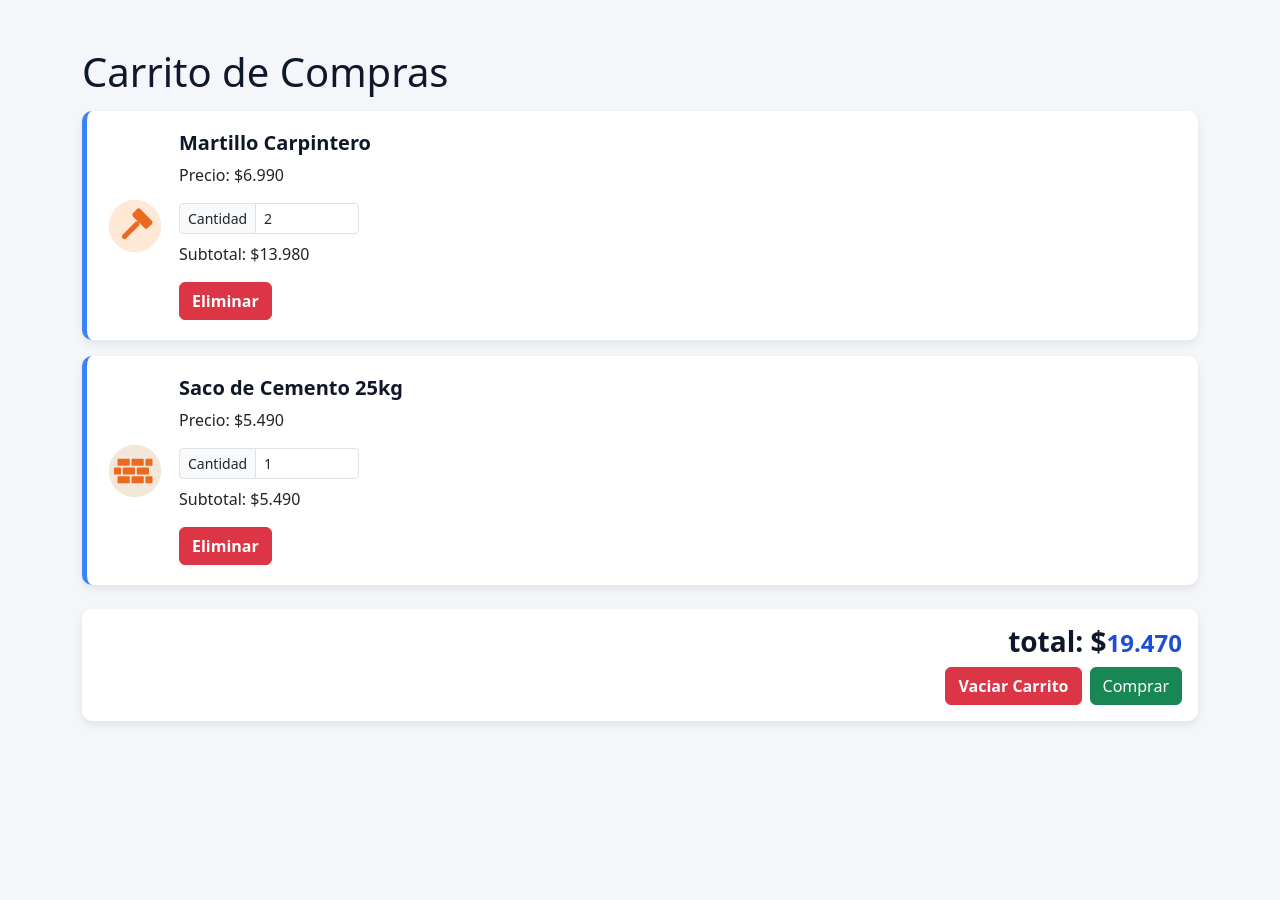
it: Carrito › al intentar comprar sin sesión iniciada muestra un aviso con acceso al login
Click the button "Comprar": point(1136, 686) top-left (1090, 667), bottom-right (1182, 705)
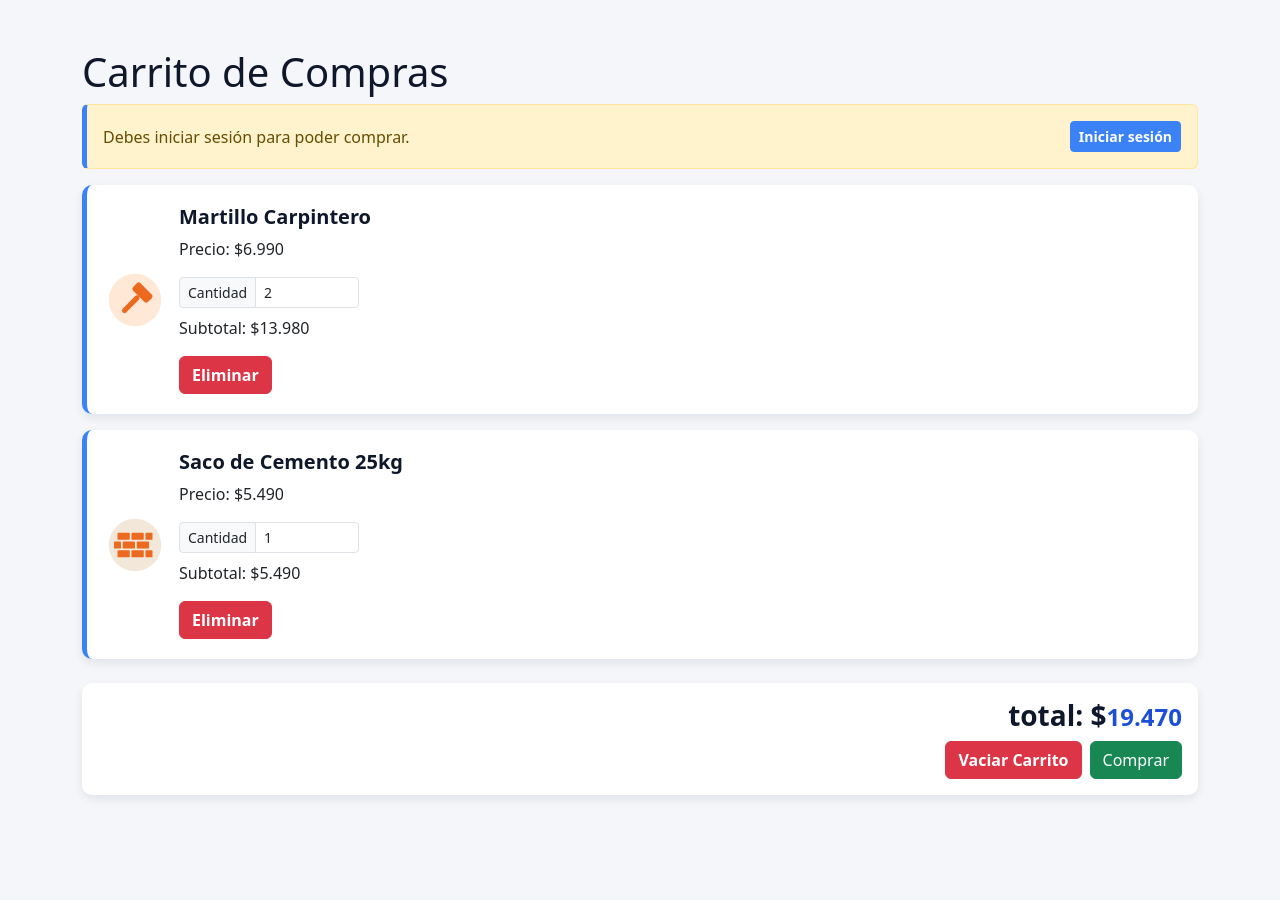
Expected: the text "Debes iniciar sesión para poder comprar." is shown, top-left (103, 124), bottom-right (410, 148)
